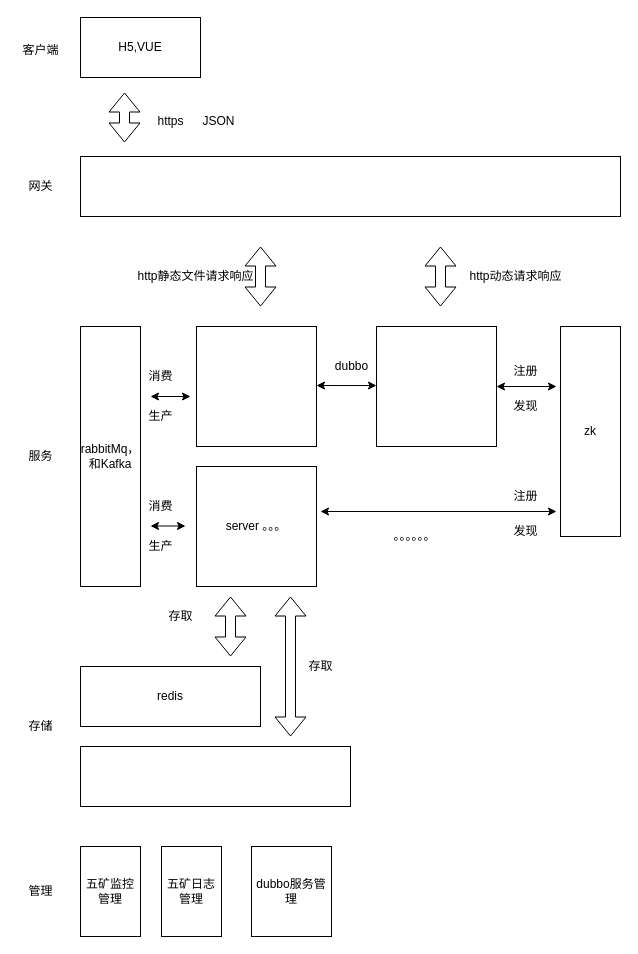
Image size: 638x954. Some labels were removed from this diagram. The shapes that lost their labels are listed below. From the top down, each one's box as (x1, y1, x2, y2) in pixels, then its label:
(80, 156, 620, 216): 五矿的网关(ngnix等)
(196, 326, 316, 446): server (SpringMVC, Spring, Mybatis)
(376, 326, 496, 446): server
(80, 746, 350, 806): oracle
